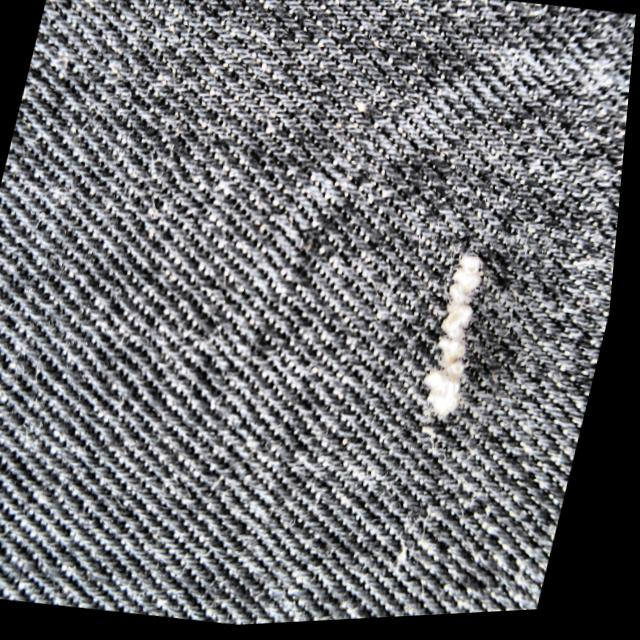Hole: (378, 219, 534, 469)
